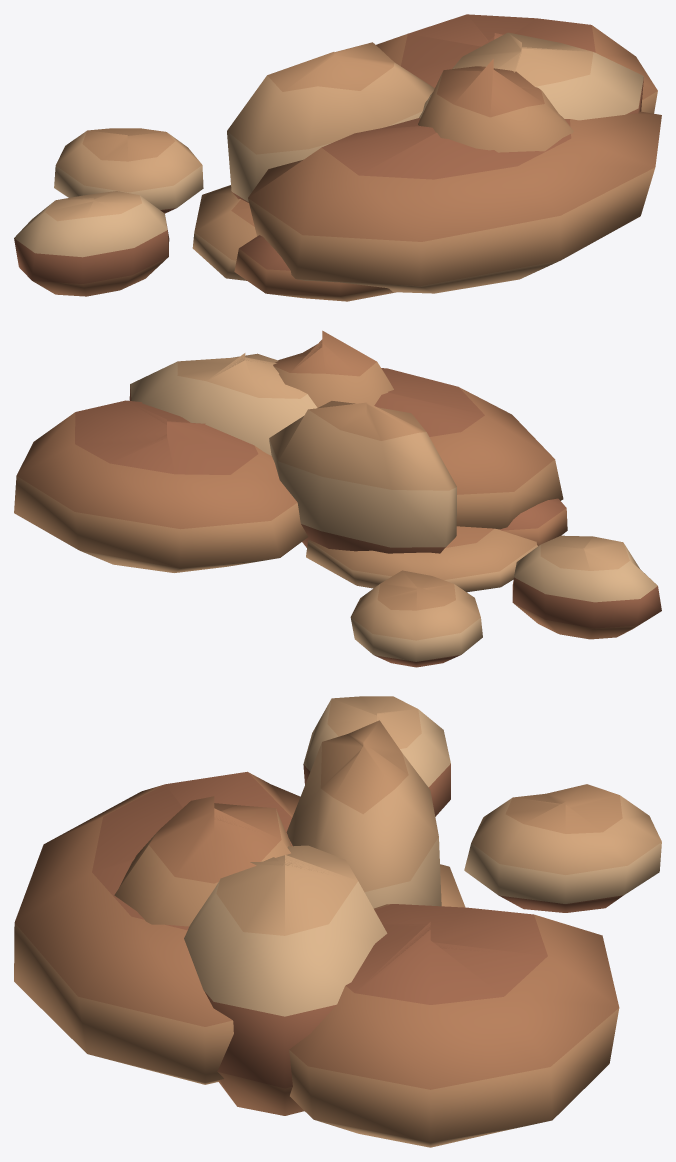
Rendered from SM_CanyonTalus_02.glb.
3 renders of one model, top to bottom at view 1: azimuth 30°, elevation 25°; view 2: azimuth 150°, elevation 25°; view 3: azimuth 270°, elevation 25°, orthographic. The views are drawn at different scales.
Parts seen in each view (by area): view 1: SM_CanyonTalus_02; view 2: SM_CanyonTalus_02; view 3: SM_CanyonTalus_02.
Boxes of the visible parts, box(x1,y1,x2,y2) form: SM_CanyonTalus_02: box(14, 14, 661, 301); SM_CanyonTalus_02: box(14, 330, 661, 667); SM_CanyonTalus_02: box(14, 696, 661, 1147).
Bounding box in the file's own units: 8.46 × 2.48 × 5.58.
